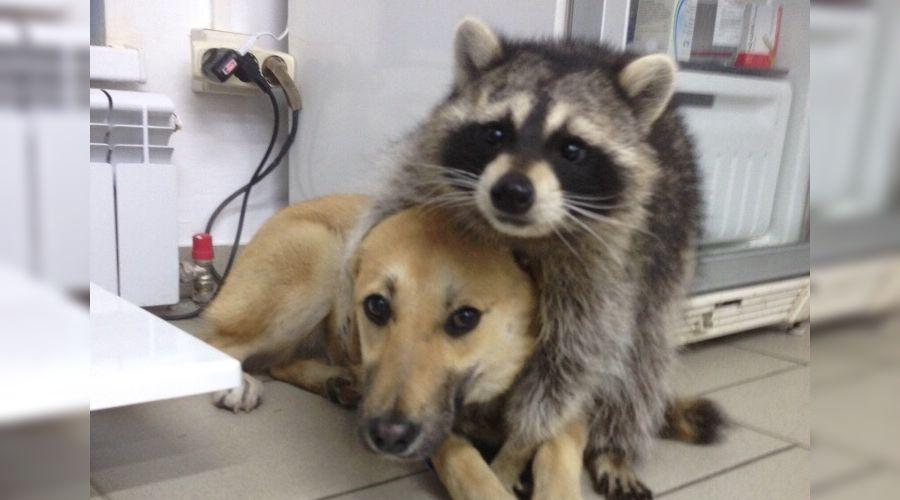raccoon: (385, 0, 761, 500)
